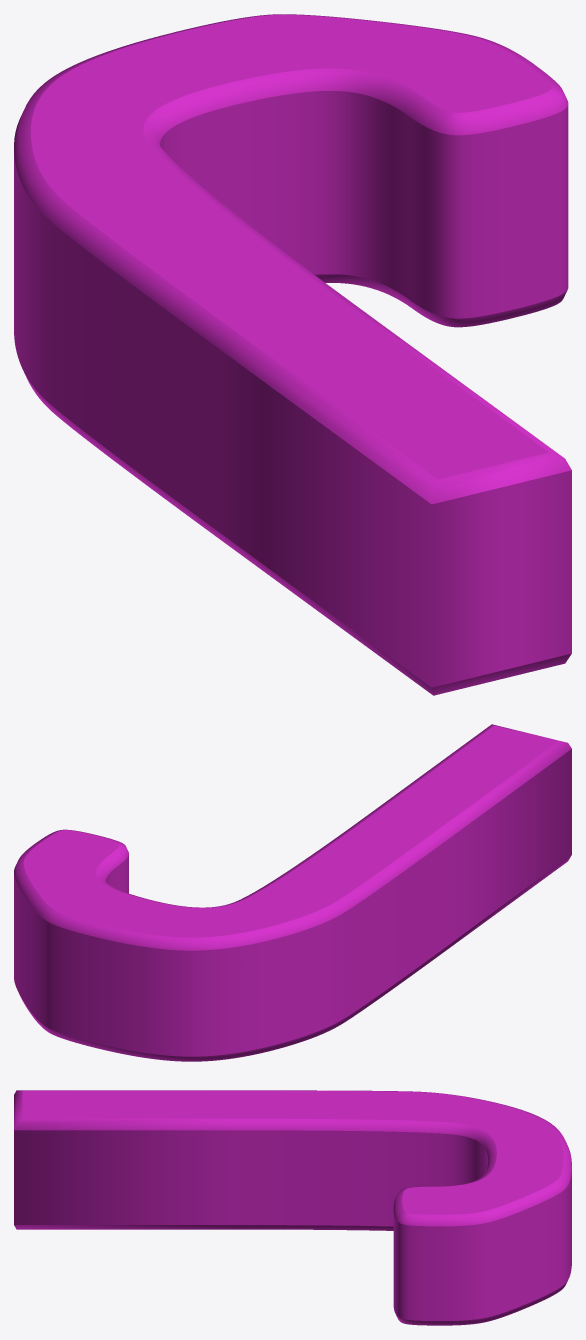
File: Blocky_LetterJ.fbx
The picture shows the model from 3 angles, top to bottom: view 1: azimuth 30°, elevation 25°; view 2: azimuth 150°, elevation 25°; view 3: azimuth 270°, elevation 25°; orthographic projection. The views are drawn at different scales.
Parts seen in each view (by area): view 1: BlockyLetter_J; view 2: BlockyLetter_J; view 3: BlockyLetter_J.
Part boxes in pixels (bbox=[...]): BlockyLetter_J: bbox=[14, 14, 571, 695]; BlockyLetter_J: bbox=[14, 724, 571, 1061]; BlockyLetter_J: bbox=[14, 1090, 571, 1325].
Size of the model in its own units: 0.3571 by 0.14 by 0.6404.
